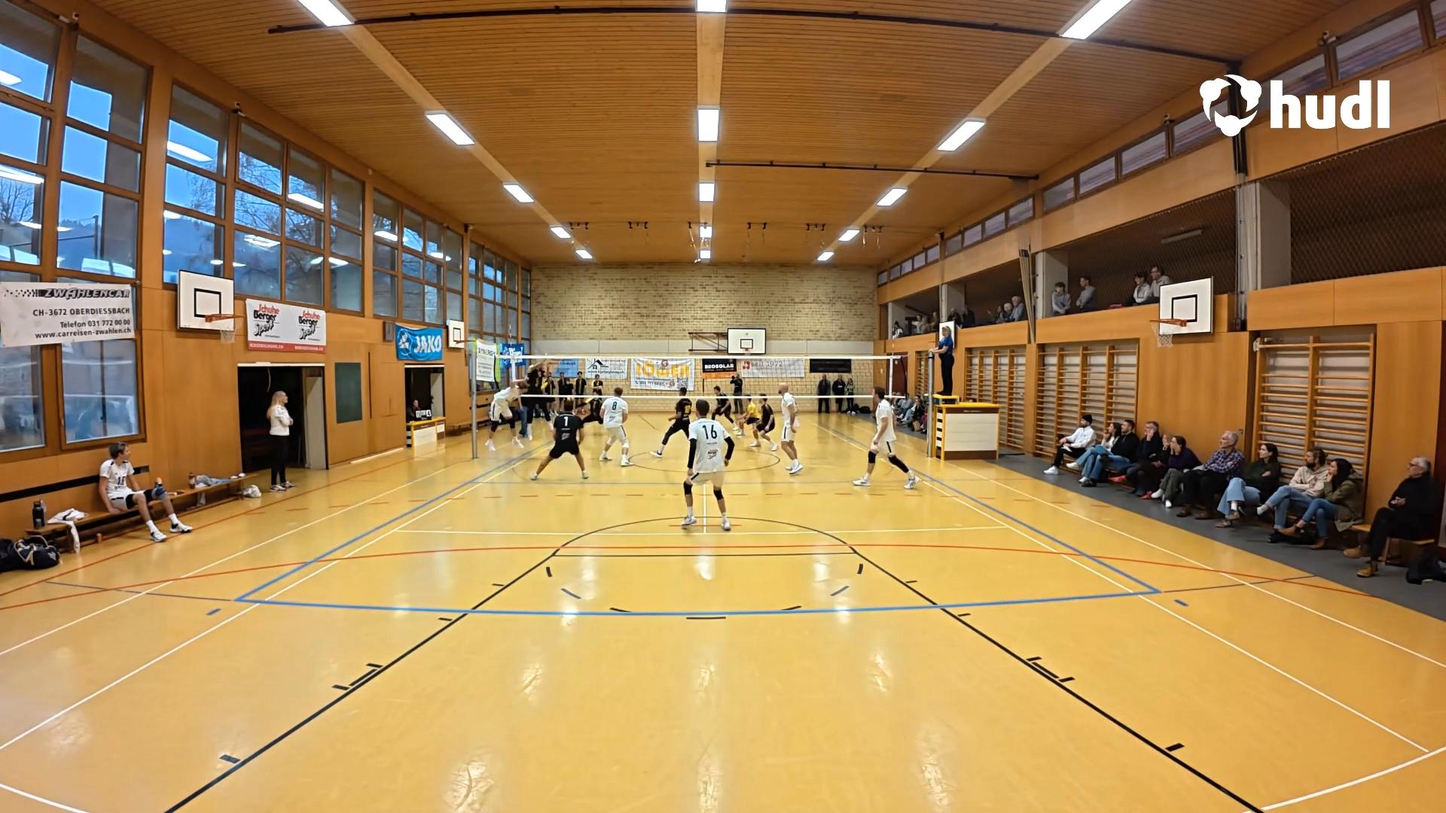difesa: (578, 383, 608, 437)
